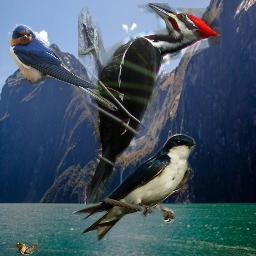Swallow: (72, 134, 196, 241), (8, 24, 118, 111), (15, 242, 41, 256)
Woodpecker: (78, 3, 220, 205)
